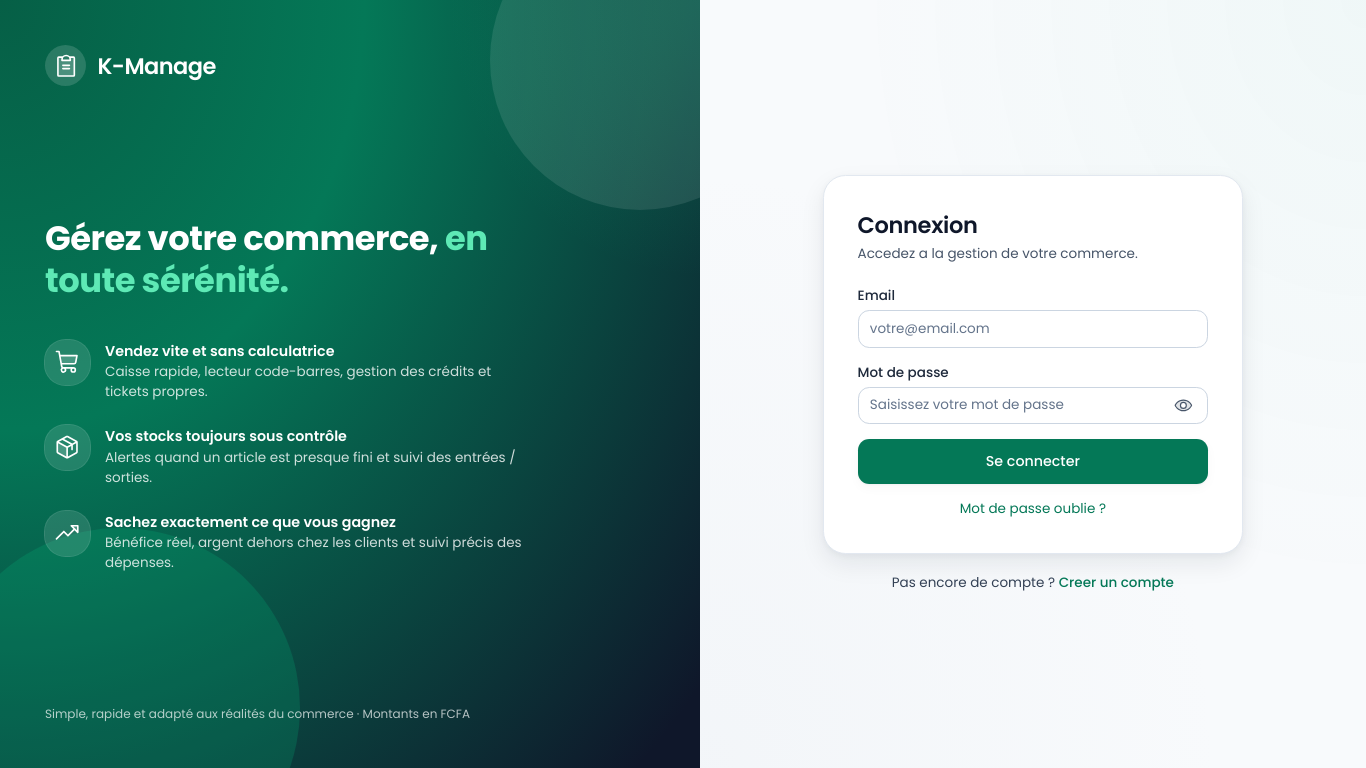
Test case: authentification et navigation › redirige immédiatement après connexion vers la création de boutique sans commerce
Step 1. Type "a@b.bj" into the field labelled "Email" → (1033, 329), box [858,310,1208,348]
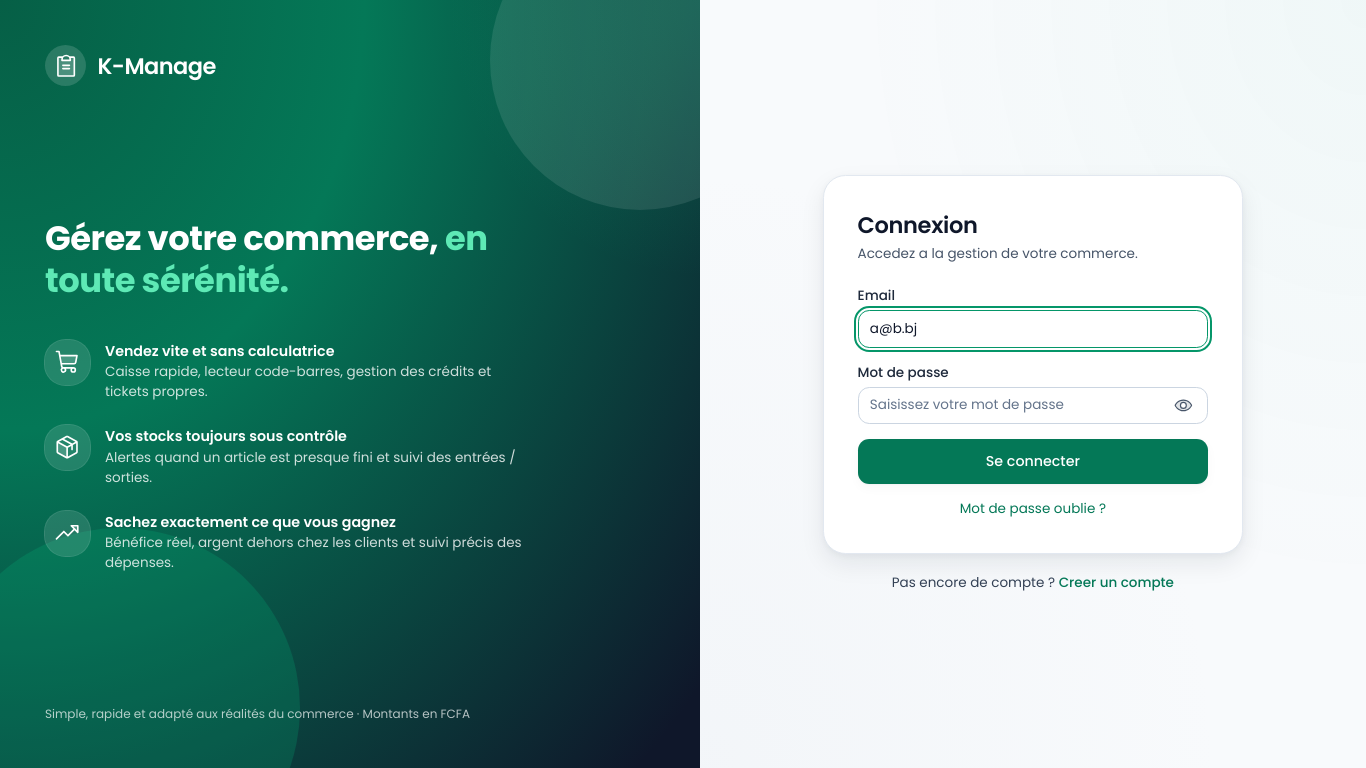
Step 2. Type "motdepasse" into the password field labelled "Mot de passe" → (1033, 405), box [858,387,1208,424]
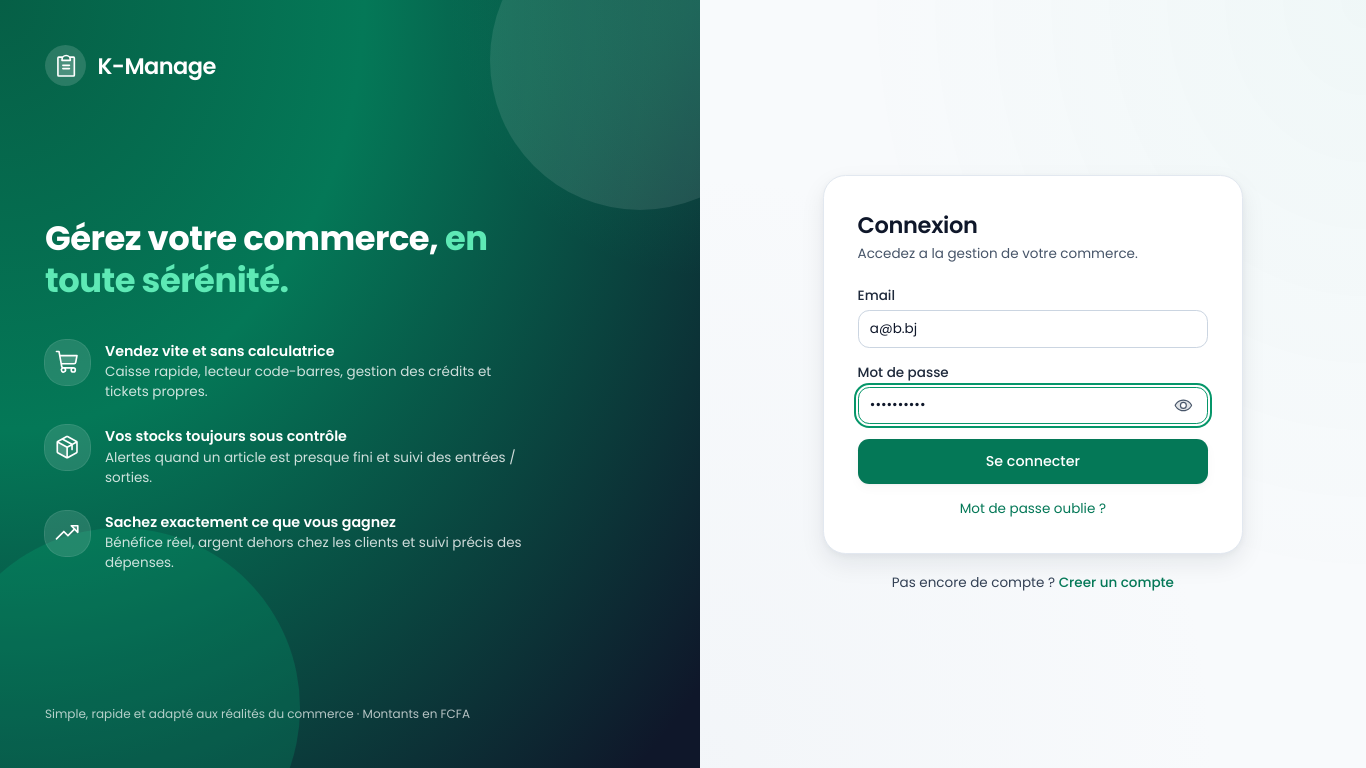
Step 3. Click the button "Se connecter" → (1033, 461), box [858,439,1208,484]
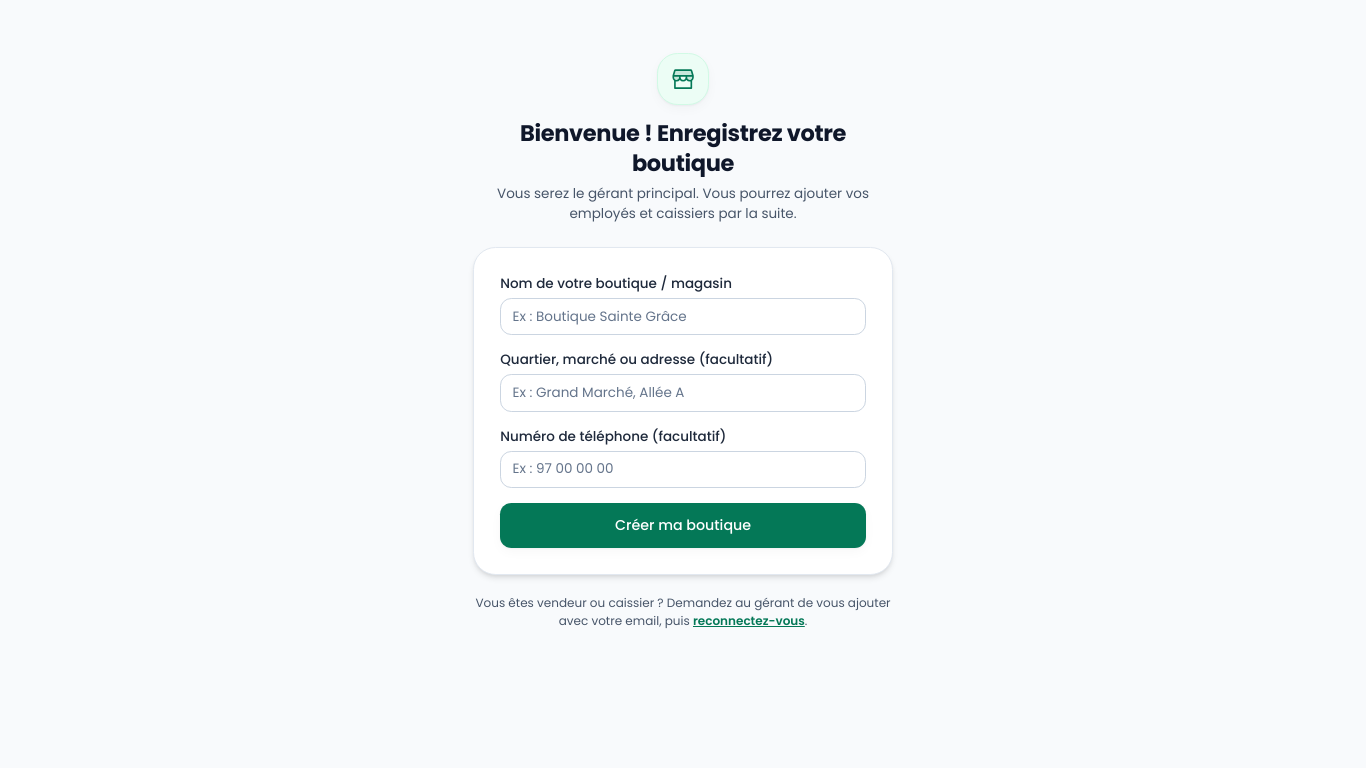
Expected: the heading "Bienvenue ! Enregistrez votre boutique" is shown, [520,117,846,179]
